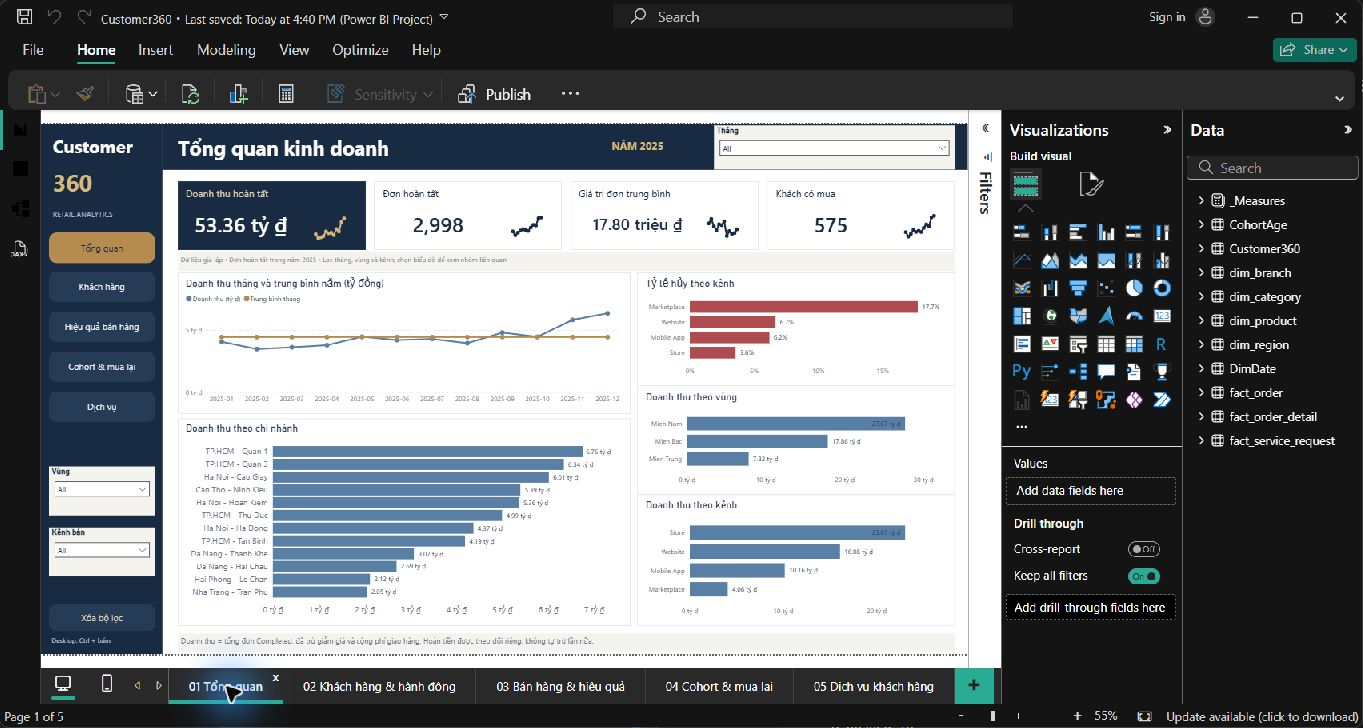

This screenshot's page, from the dashboard's own definition file:
{"tool":"powerbi","page":{"name":"01 Tổng quan","canvas":[1680,960],"ordinal":0},"visuals":[{"type":"textbox","box":[0,0,220,960],"z":0},{"type":"textbox","box":[220,0,1460,82],"z":0},{"type":"actionButton","box":[248,104,340,124],"z":1},{"type":"actionButton","box":[604,104,340,124],"z":1},{"type":"actionButton","box":[960,104,340,124],"z":1},{"type":"actionButton","box":[1316,104,340,124],"z":1},{"type":"actionButton","box":[248,268,820,256],"z":1},{"type":"actionButton","box":[1080,268,576,206],"z":1},{"type":"actionButton","box":[1080,476,576,194],"z":1},{"type":"actionButton","box":[248,532,820,376],"z":1},{"type":"actionButton","box":[1080,672,576,236],"z":1},{"type":"textbox","box":[248,230,1408,35],"z":2},{"type":"slicer","title":"Tháng","fields":{"Values":["DimDate.MonthLabel"]},"box":[1220,1,436,80],"z":3},{"type":"slicer","title":"Vùng","fields":{"Values":["dim_region.region_name"]},"box":[14,620,192,89],"z":4},{"type":"slicer","title":"Kênh bán","fields":{"Values":["fact_order.sales_channel"]},"box":[14,730,192,89],"z":5},{"type":"textbox","box":[248,923,1408,33],"z":14},{"type":"actionButton","box":[14,195,192,56],"z":20},{"type":"actionButton","box":[14,267,192,56],"z":20},{"type":"actionButton","box":[14,339,192,56],"z":20},{"type":"actionButton","box":[14,411,192,56],"z":20},{"type":"actionButton","box":[14,483,192,56],"z":20},{"type":"actionButton","box":[14,870,192,48],"z":20},{"type":"lineChart","title":"Doanh thu tháng và trung bình năm (tỷ đồng)","fields":{"Category":["DimDate.MonthLabel"],"Y":["_Measures.Revenue Bn","_Measures.Average Monthly Revenue Bn"]},"box":[258,276,800,240],"z":45},{"type":"clusteredBarChart","title":"Tỷ lệ hủy theo kênh","fields":{"Category":["fact_order.sales_channel"],"Y":["_Measures.Cancellation Rate"]},"box":[1090,276,556,190],"z":45},{"type":"clusteredBarChart","title":"Doanh thu theo chi nhánh","fields":{"Category":["dim_branch.branch_name"],"Y":["_Measures.Revenue Bn"]},"box":[258,540,800,360],"z":45},{"type":"clusteredBarChart","title":"Doanh thu theo vùng","fields":{"Category":["dim_region.region_name"],"Y":["_Measures.Revenue Bn"]},"box":[1090,484,556,178],"z":50},{"type":"clusteredBarChart","title":"Doanh thu theo kênh","fields":{"Category":["fact_order.sales_channel"],"Y":["_Measures.Revenue Bn"]},"box":[1090,680,556,220],"z":50},{"type":"card","fields":{"Values":["_Measures.Revenue Bn"]},"box":[256,144,214,76],"z":60},{"type":"card","fields":{"Values":["_Measures.Completed Orders"]},"box":[612,144,214,76],"z":60},{"type":"card","fields":{"Values":["_Measures.AOV Mn"]},"box":[968,144,228,76],"z":60},{"type":"card","fields":{"Values":["_Measures.Buying Customers"]},"box":[1324,144,214,76],"z":60},{"type":"lineChart","fields":{"Category":["DimDate.MonthNumber"],"Y":["_Measures.Revenue Bn"]},"box":[479,149,100,70],"z":65},{"type":"lineChart","fields":{"Category":["DimDate.MonthNumber"],"Y":["_Measures.Completed Orders"]},"box":[835,149,100,70],"z":65},{"type":"lineChart","fields":{"Category":["DimDate.MonthNumber"],"Y":["_Measures.AOV Mn"]},"box":[1191,149,100,70],"z":65},{"type":"lineChart","fields":{"Category":["DimDate.MonthNumber"],"Y":["_Measures.Buying Customers"]},"box":[1547,149,100,70],"z":65},{"type":"textbox","box":[16,12,196,70],"z":80},{"type":"textbox","box":[242,12,790,65],"z":80},{"type":"textbox","box":[1030,21,170,48],"z":80},{"type":"textbox","box":[16,73,196,76],"z":80},{"type":"textbox","box":[258,108,318,42],"z":80},{"type":"textbox","box":[614,108,318,42],"z":80},{"type":"textbox","box":[970,108,318,42],"z":80},{"type":"textbox","box":[1326,108,318,42],"z":80},{"type":"textbox","box":[16,149,196,40],"z":80},{"type":"textbox","box":[14,921,196,33],"z":80}]}

Visuals, with their boxes on the page's 1680x960 design canvas (x1, y1, x2, y2). These are canvas units, not pixel positions in the 1363x728 screenshot, which may show the page scaled, cropped or inside an application window:
textbox: 0,0,220,960
textbox: 220,0,1680,82
actionButton: 248,104,588,228
actionButton: 604,104,944,228
actionButton: 960,104,1300,228
actionButton: 1316,104,1656,228
actionButton: 248,268,1068,524
actionButton: 1080,268,1656,474
actionButton: 1080,476,1656,670
actionButton: 248,532,1068,908
actionButton: 1080,672,1656,908
textbox: 248,230,1656,265
"Tháng" slicer: 1220,1,1656,81
"Vùng" slicer: 14,620,206,709
"Kênh bán" slicer: 14,730,206,819
textbox: 248,923,1656,956
actionButton: 14,195,206,251
actionButton: 14,267,206,323
actionButton: 14,339,206,395
actionButton: 14,411,206,467
actionButton: 14,483,206,539
actionButton: 14,870,206,918
"Doanh thu tháng và trung bình năm (tỷ đồng)" lineChart: 258,276,1058,516
"Tỷ lệ hủy theo kênh" clusteredBarChart: 1090,276,1646,466
"Doanh thu theo chi nhánh" clusteredBarChart: 258,540,1058,900
"Doanh thu theo vùng" clusteredBarChart: 1090,484,1646,662
"Doanh thu theo kênh" clusteredBarChart: 1090,680,1646,900
card - _Measures.Revenue Bn: 256,144,470,220
card - _Measures.Completed Orders: 612,144,826,220
card - _Measures.AOV Mn: 968,144,1196,220
card - _Measures.Buying Customers: 1324,144,1538,220
lineChart - DimDate.MonthNumber x _Measures.Revenue Bn: 479,149,579,219
lineChart - DimDate.MonthNumber x _Measures.Completed Orders: 835,149,935,219
lineChart - DimDate.MonthNumber x _Measures.AOV Mn: 1191,149,1291,219
lineChart - DimDate.MonthNumber x _Measures.Buying Customers: 1547,149,1647,219
textbox: 16,12,212,82
textbox: 242,12,1032,77
textbox: 1030,21,1200,69
textbox: 16,73,212,149
textbox: 258,108,576,150
textbox: 614,108,932,150
textbox: 970,108,1288,150
textbox: 1326,108,1644,150
textbox: 16,149,212,189
textbox: 14,921,210,954
